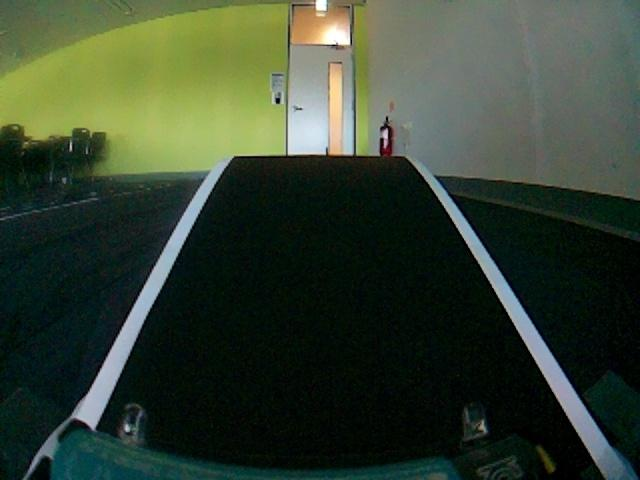hill_up: (67, 151, 594, 480)
